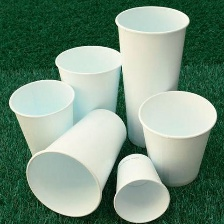paper_cup: (21, 103, 131, 219), (112, 2, 192, 151), (134, 87, 220, 191), (51, 41, 124, 132), (6, 75, 78, 163), (108, 151, 174, 223)
